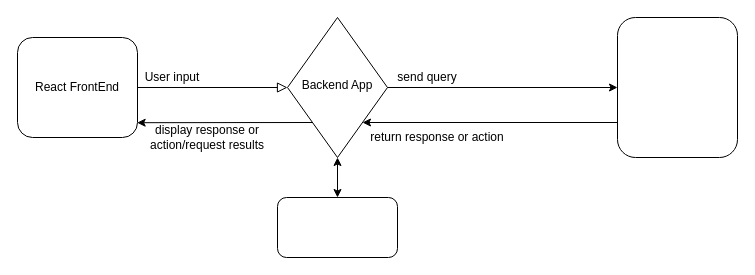
The diagram is 755 pixels wide and 275 high, and some of its shapes have lost their labels. The shapes that lost their labels are listed below. From the top down, each one's centre as x and y in pixels, then its label:
At point (677, 87): "DialogFlow".
At point (337, 227): "Database or API".
